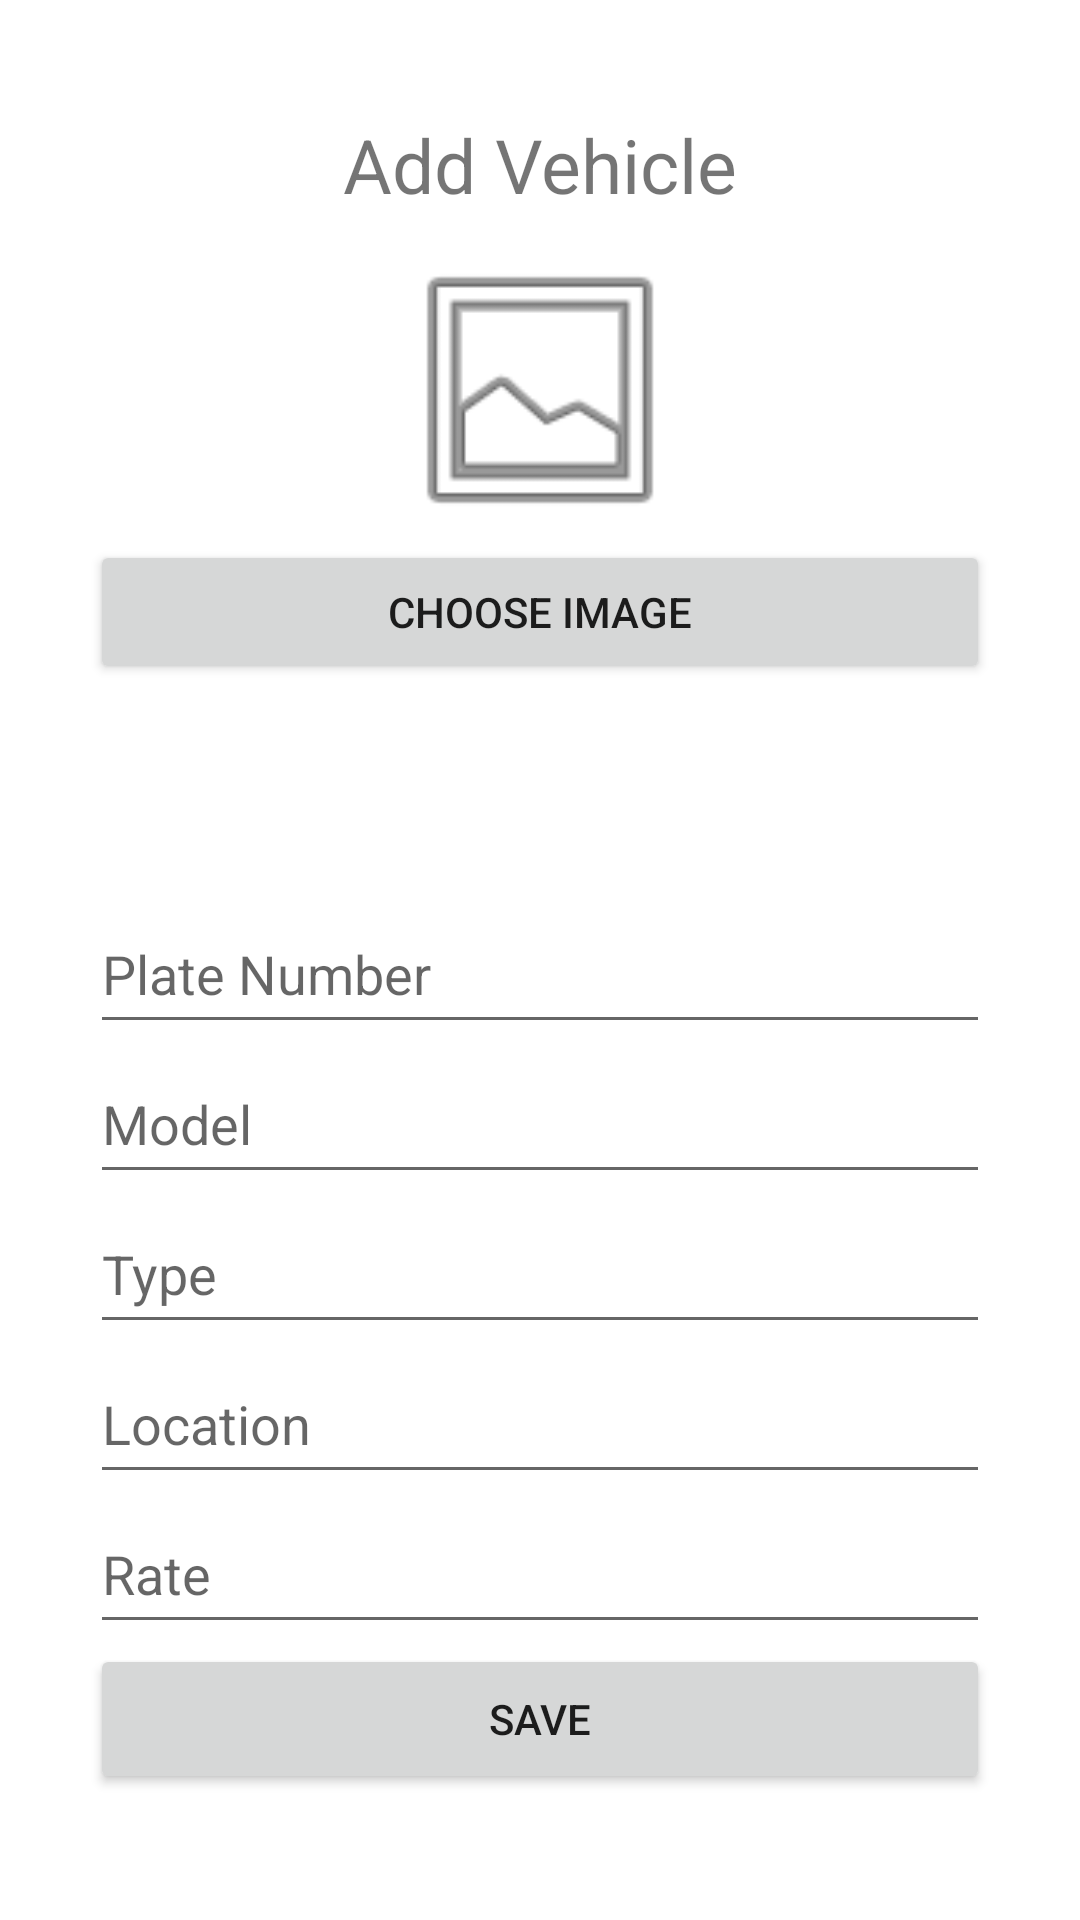

Point at icon controls on the screen. Image size 1080×1920, points as point (x, y).
gallery: point (540, 390)
